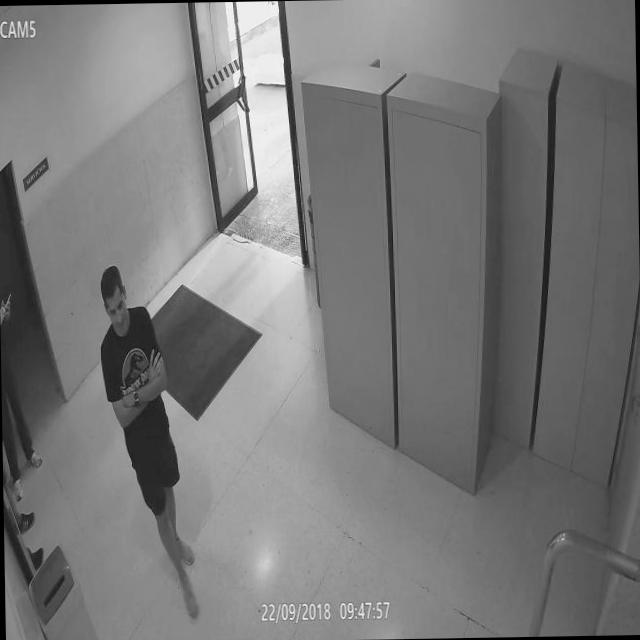person: (96, 257, 213, 624)
